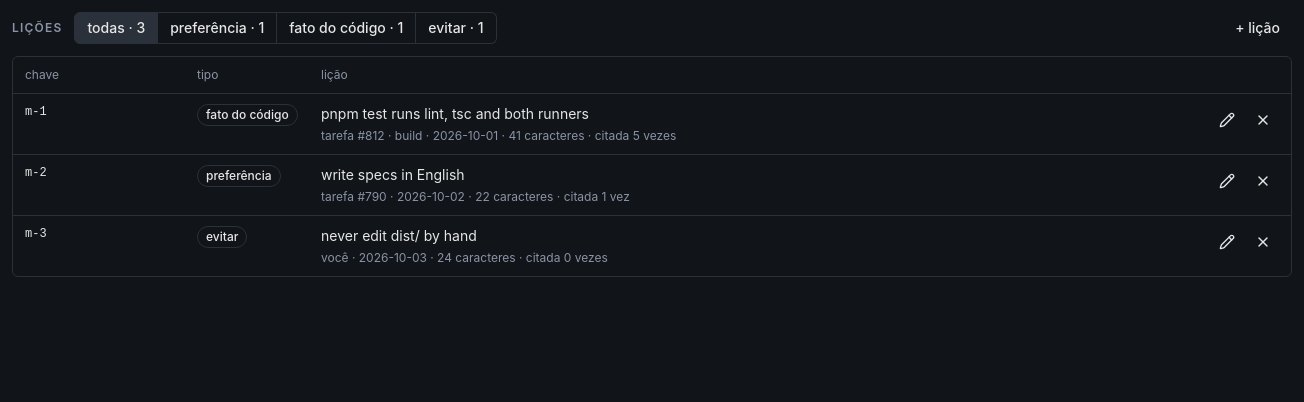
only one row edits at a time; cancel leaves it as it was (#797)
Click the button named "editar lição m-1" at (1227, 120), box [1211,104,1243,136]
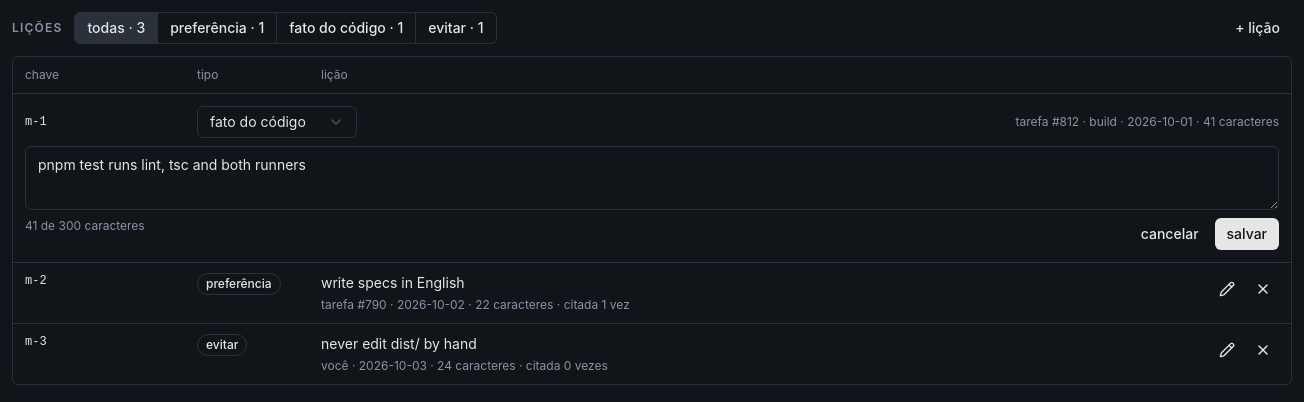
Now the text box named "texto da lição" holds "pnpm test runs lint, tsc and both runners", box [25,146,1279,210]
Click the button named "editar lição m-2" at (1227, 289), box [1211,273,1243,305]
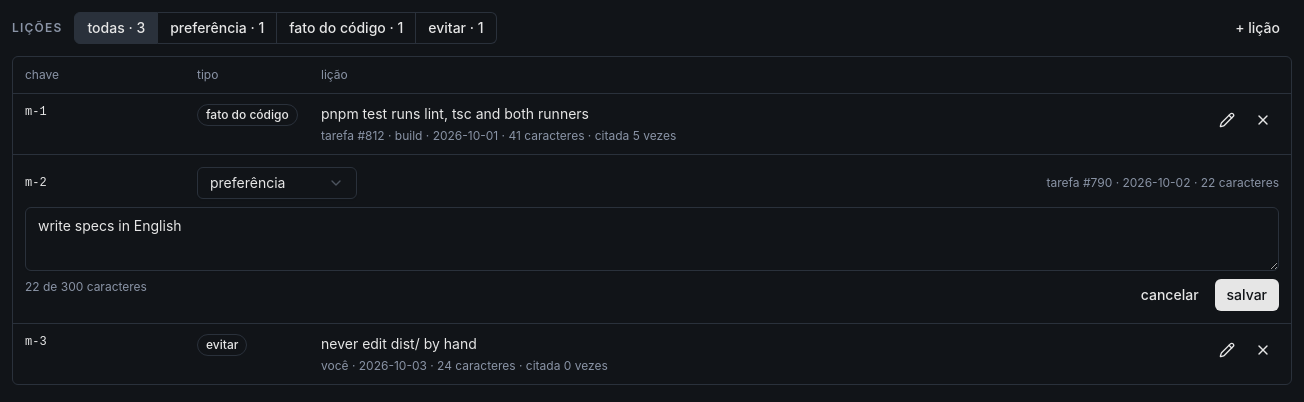
Now the number of text boxes is 1, box [25,207,1279,271]
Now the text box named "texto da lição" holds "write specs in English", box [25,207,1279,271]
Click the button "cancelar" at (1170, 295), box [1129,279,1211,311]
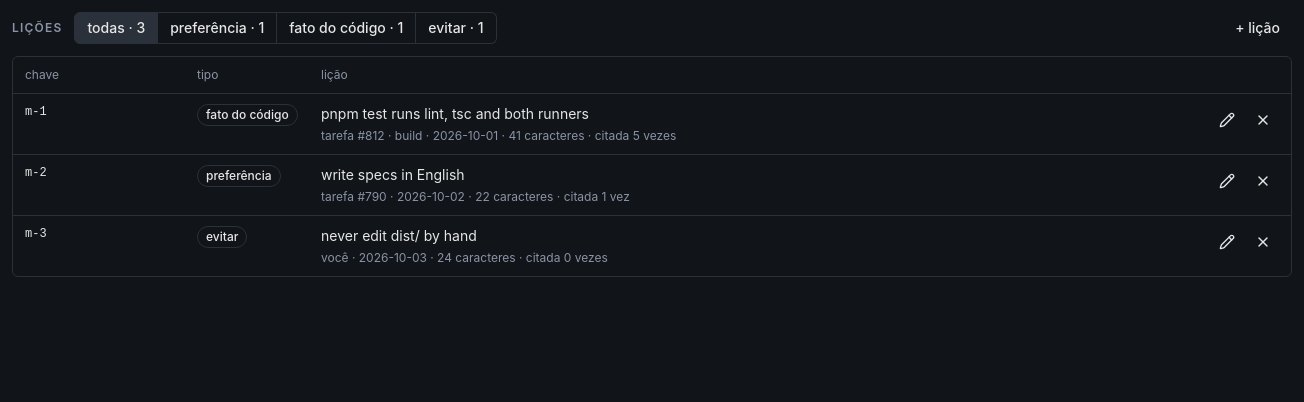
Now the text "write specs in English" is shown, box [321,166,465,183]
